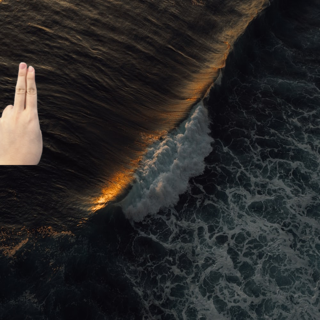DHAVE: (1, 59, 45, 165)
